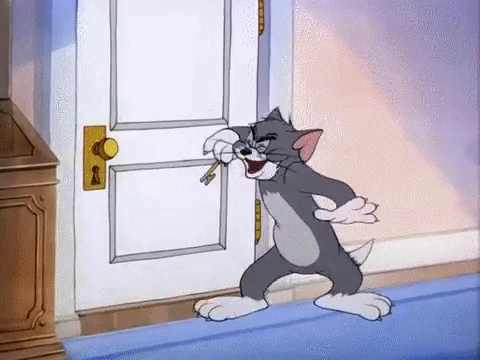tom: (192, 106, 394, 325)
